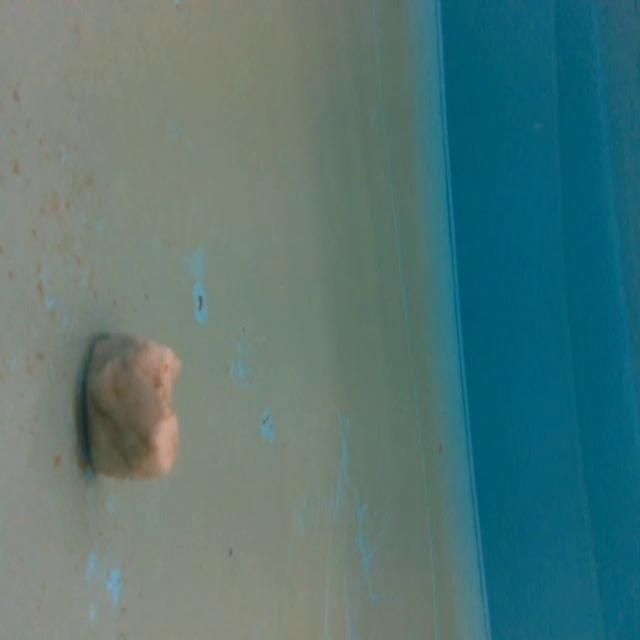rock: (80, 326, 188, 488)
